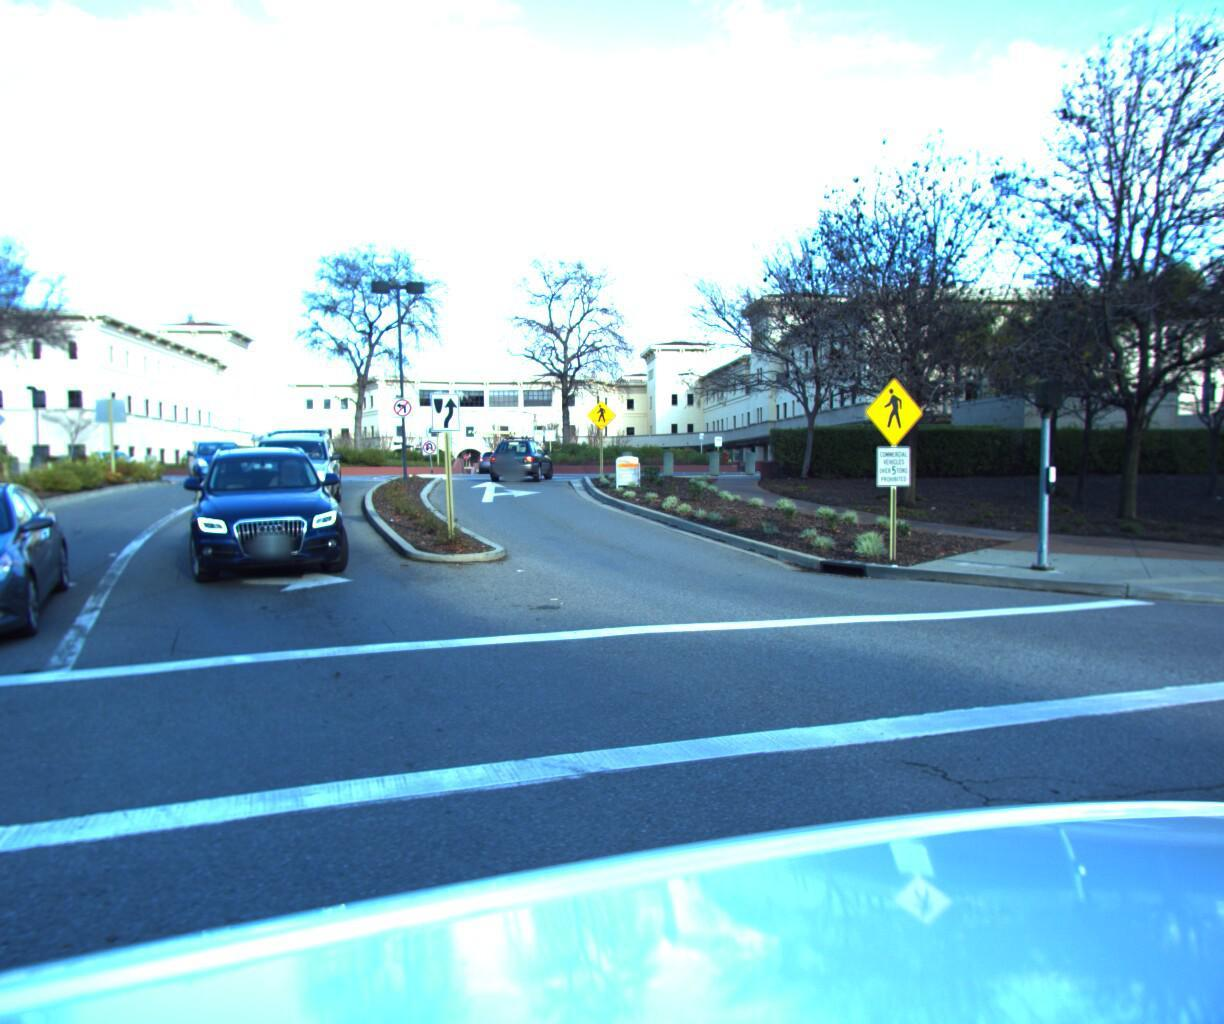car: (182, 443, 357, 594), (0, 480, 73, 689), (229, 421, 348, 526), (490, 434, 556, 483), (181, 439, 243, 484)
